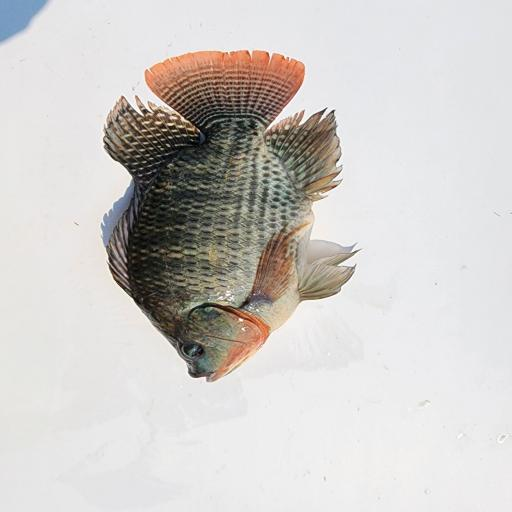Tilapia: (103, 50, 363, 383)
